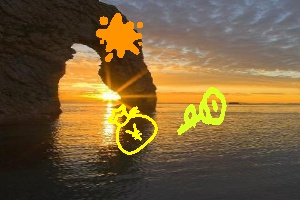钥匙: (175, 89, 227, 134)
钱袋: (110, 105, 158, 155)
颜料一坨: (97, 13, 142, 62)
